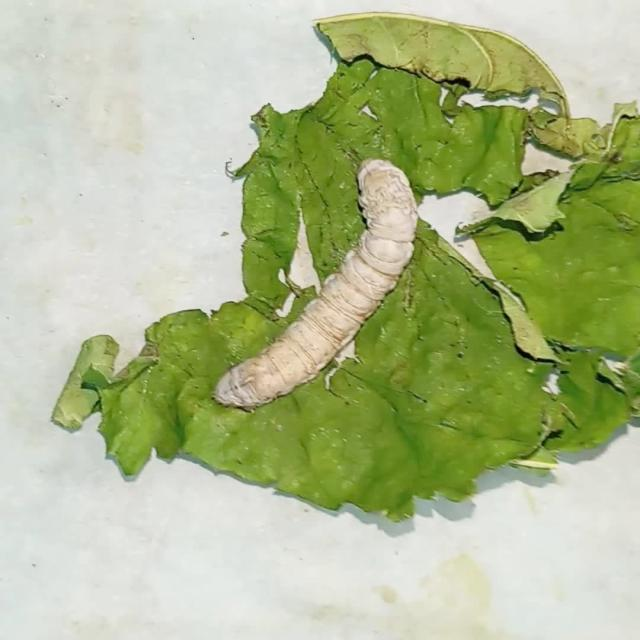Grasserie: (194, 124, 434, 446)
